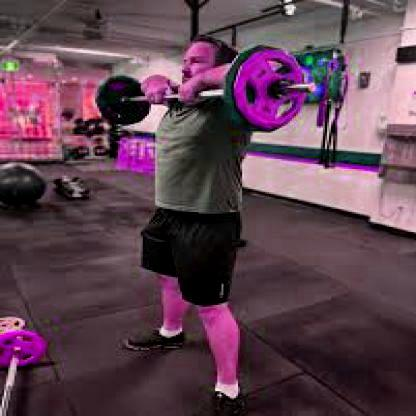Barbell: (308, 82, 328, 99)
